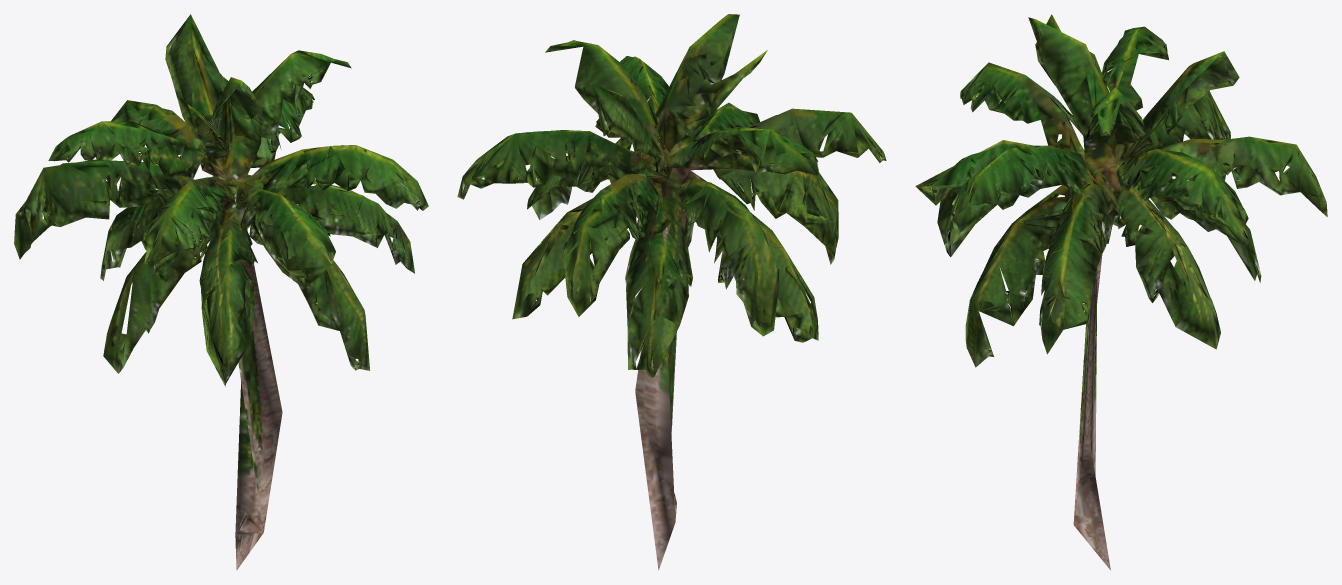
Rendered from palm.glb.
3 views of the same model, side by side, from view 1: azimuth 30°, elevation 25°; view 2: azimuth 150°, elevation 25°; view 3: azimuth 270°, elevation 25° (orthographic). The views are drawn at different scales.
Parts seen in each view (by area): view 1: low; view 2: low; view 3: low.
Part boxes in pixels (bbox=[...]): low: bbox=[14, 14, 428, 570]; low: bbox=[457, 14, 886, 570]; low: bbox=[915, 14, 1327, 570].
Bounding box in the file's own units: 1.13 × 1.76 × 1.23.
Materials: 1 (1 with a texture image).
